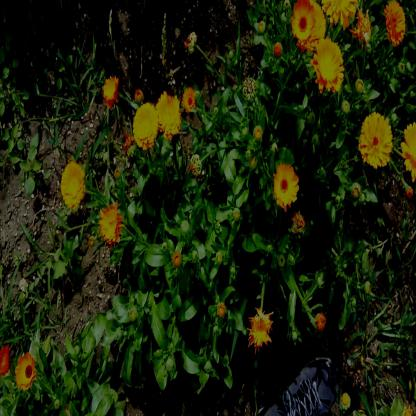marigold: (360, 112, 392, 164), (313, 43, 342, 93), (298, 3, 324, 47), (273, 162, 298, 207), (60, 161, 84, 206), (133, 104, 157, 149), (98, 202, 122, 246), (290, 0, 315, 39), (154, 95, 178, 135), (249, 308, 274, 346), (385, 2, 406, 42), (15, 354, 37, 390)
